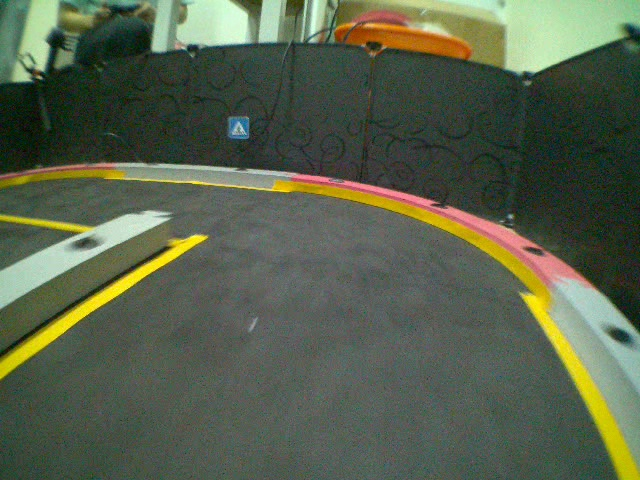crossing: (227, 113, 250, 140)
